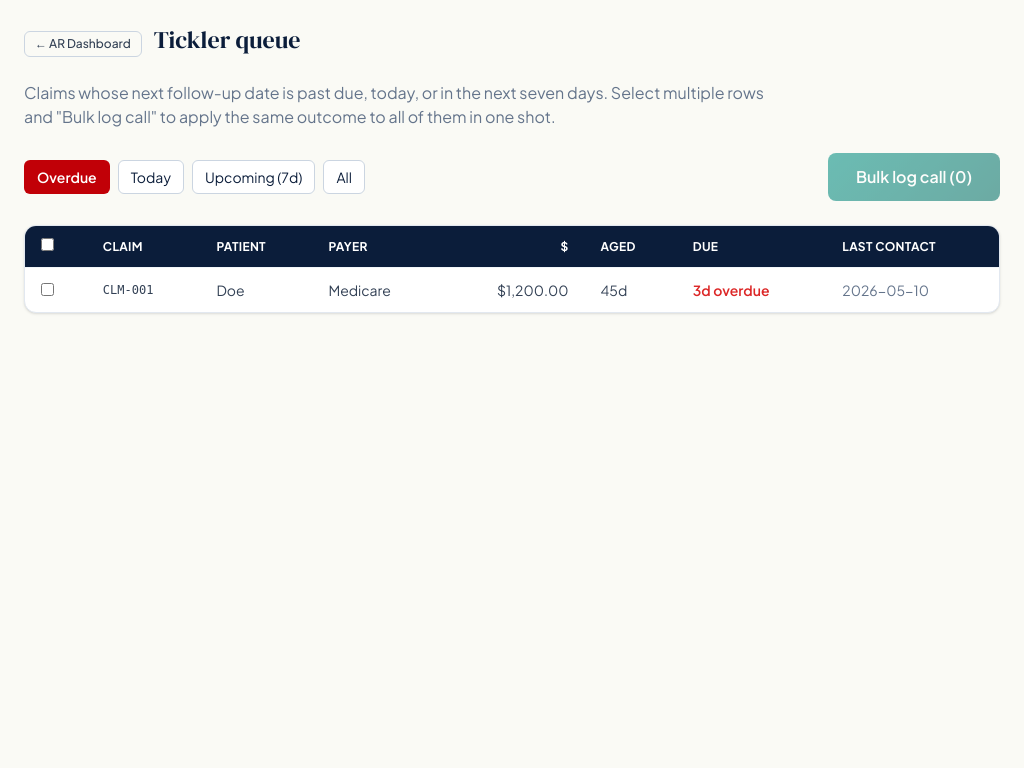
Test: ArTicklerPage › shows partial-success summary when some claims fail
Expected: the text "CLM-001" is shown, top-left (87, 268), bottom-right (200, 312)
Click the checkbox named "Select claim CLM-001": (48,290) top-left (41, 283), bottom-right (54, 296)
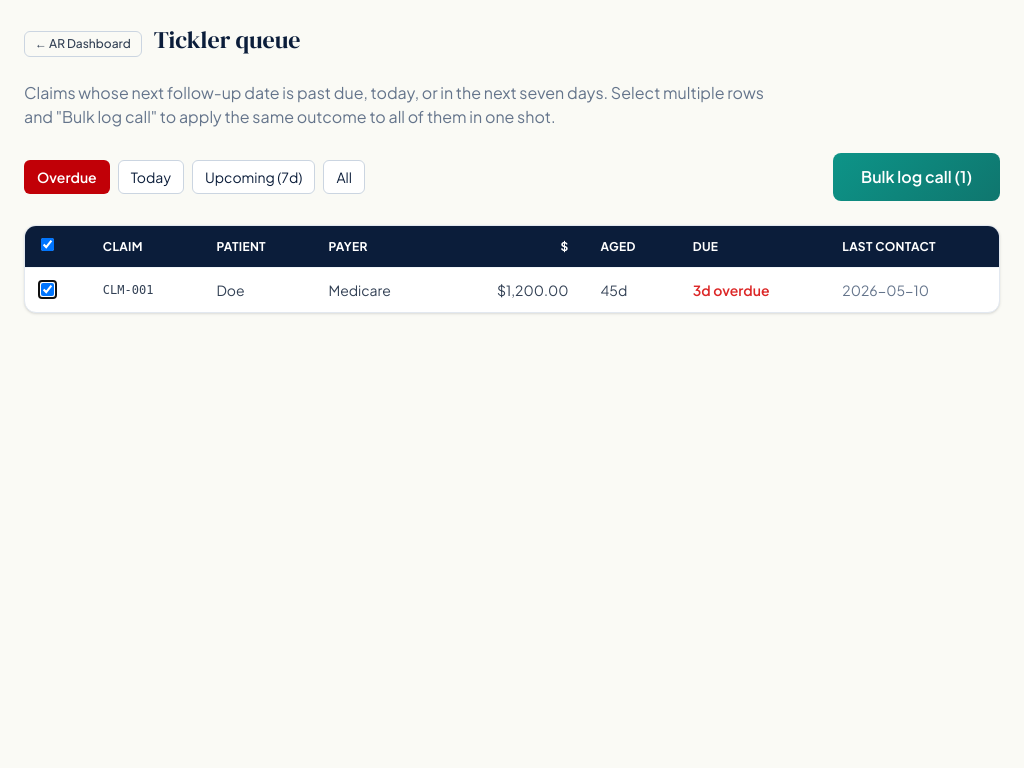
Click the button "Bulk log call (1)": (917,177) top-left (833, 153), bottom-right (1000, 201)
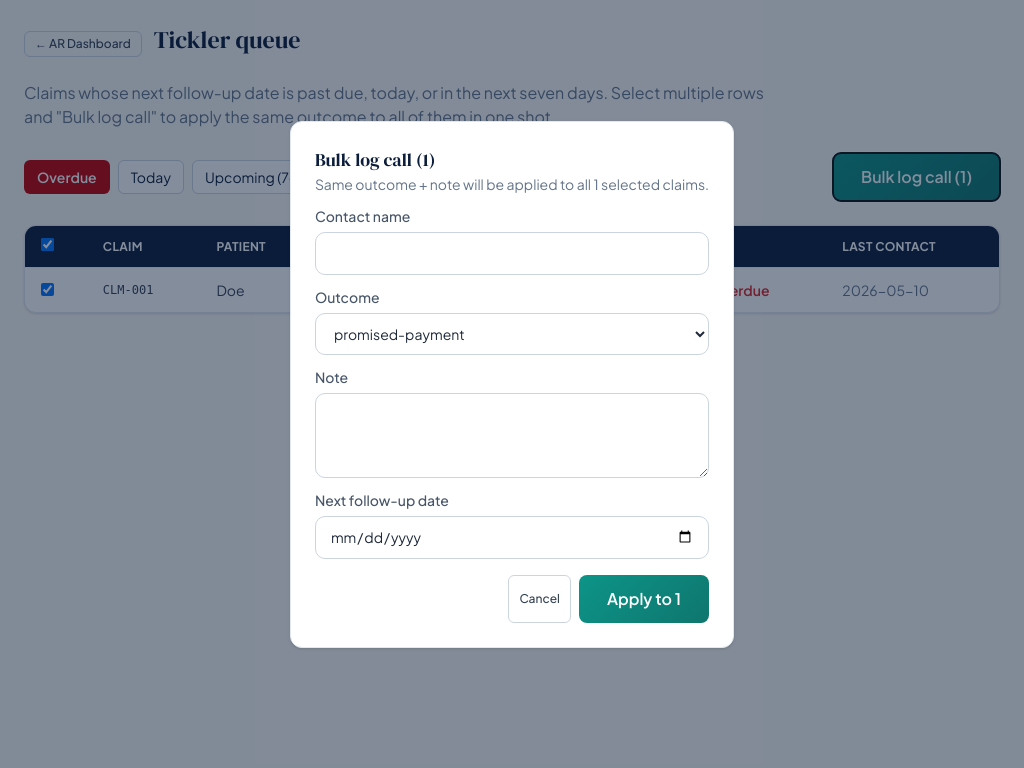
Click the button "Apply to 1": (644,598) top-left (579, 574), bottom-right (709, 622)
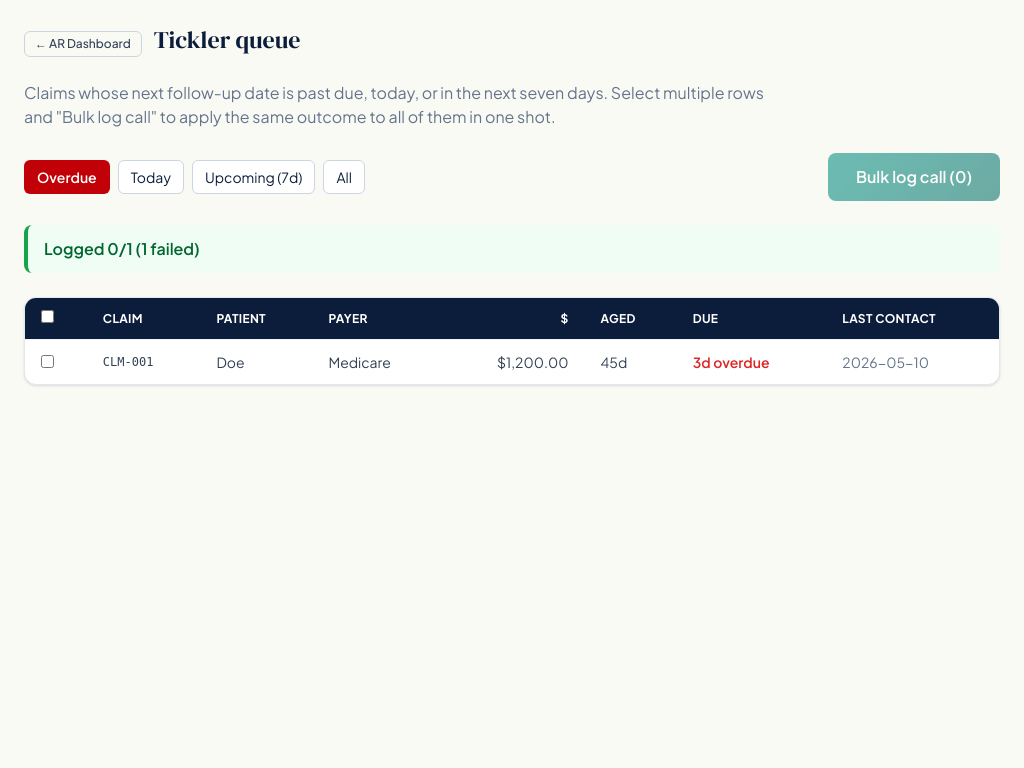
Expected: the text "Logged 0/1 (1 failed)" is shown, top-left (24, 225), bottom-right (1000, 273)
